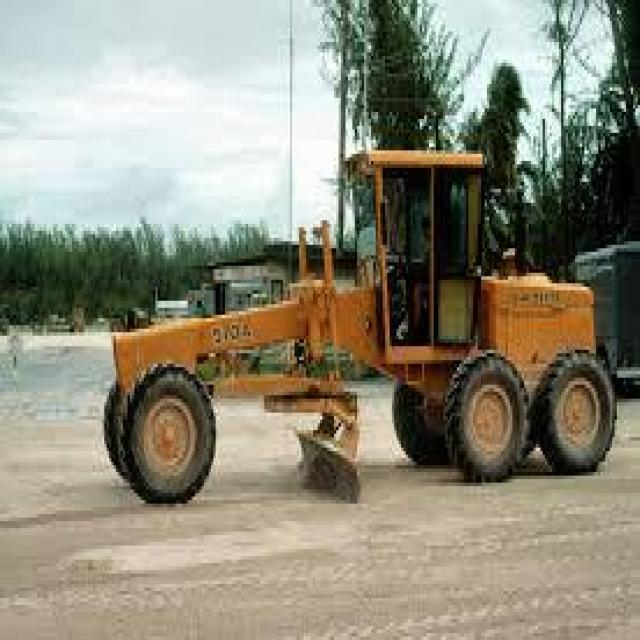Grader: (72, 115, 631, 556)
